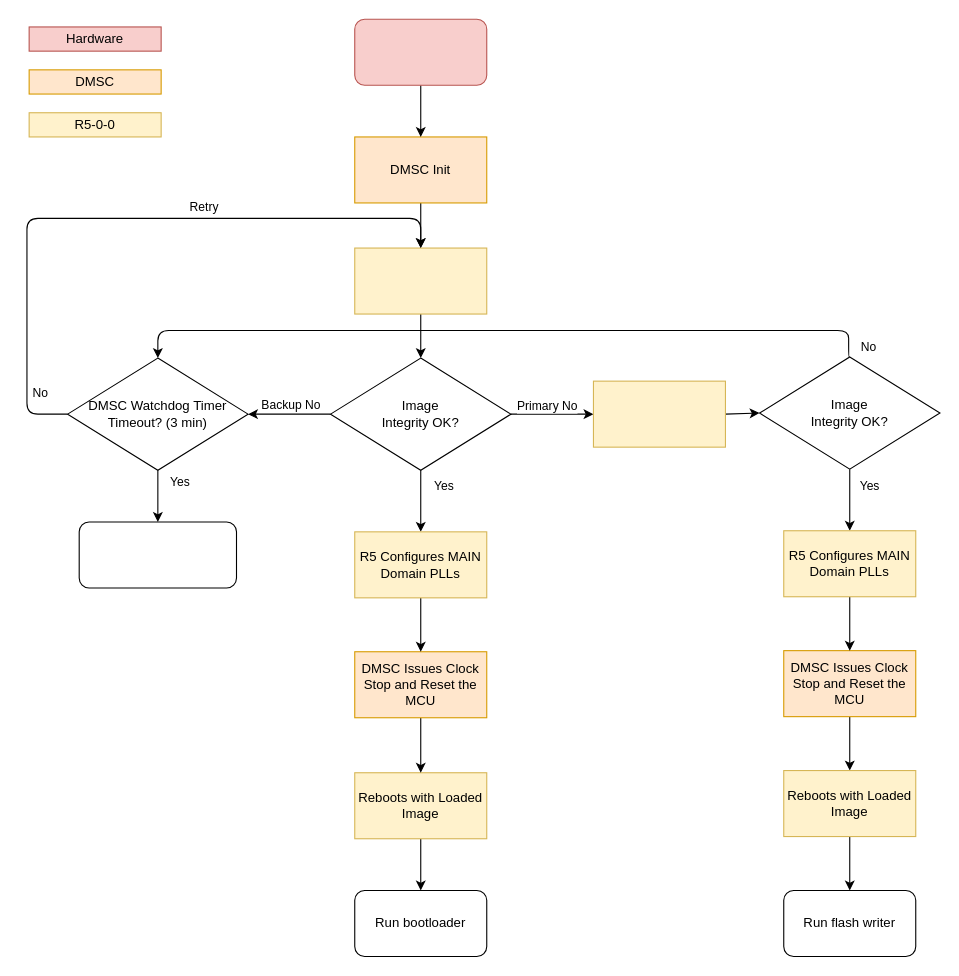
Image size: 959x976. Some labels were removed from this diagram. The shapes that lost their labels are listed below. From the top down, each one's box as (x1, y1, x2, y2) in pixels, then its label:
(354, 18, 487, 85): Power On
(354, 247, 487, 314): Start Primary Bootmode boot from Flash
(592, 380, 725, 447): Start Secondary Bootmode boot from Ethernet
(78, 521, 237, 588): Public ROM Aborts. Waiting for MCU Reset
